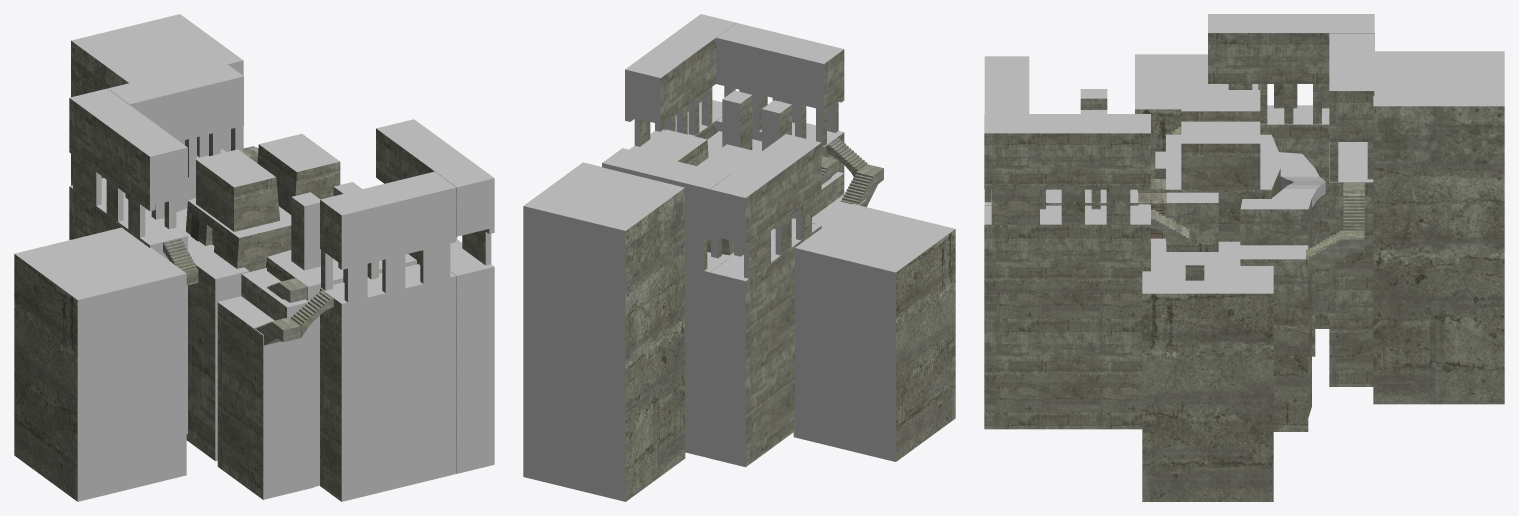
Rendered from SM_Gutenberg_01.fbx.
3 views of the same model, side by side, from view 1: azimuth 30°, elevation 25°; view 2: azimuth 150°, elevation 25°; view 3: azimuth 270°, elevation 25° (orthographic). The views are drawn at different scales.
Visible parts, largest first — view 1: gutenberg, Cube_01.003; view 2: gutenberg, Cube_01.003; view 3: gutenberg, Cube_01.003.
Boxes of the visible parts, box(x1,y1,x2,y2) form: gutenberg: box(14, 14, 494, 501); Cube_01.003: box(163, 146, 333, 345); gutenberg: box(523, 14, 955, 501); Cube_01.003: box(793, 138, 883, 224); gutenberg: box(984, 14, 1504, 501); Cube_01.003: box(1151, 127, 1364, 269).
Bounding box in the file's own units: 6730 × 5555 × 7559.
